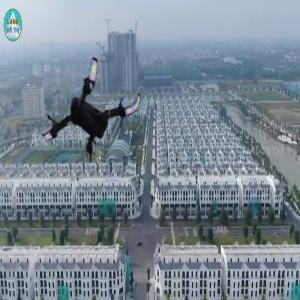drone: (29, 57, 147, 175)
